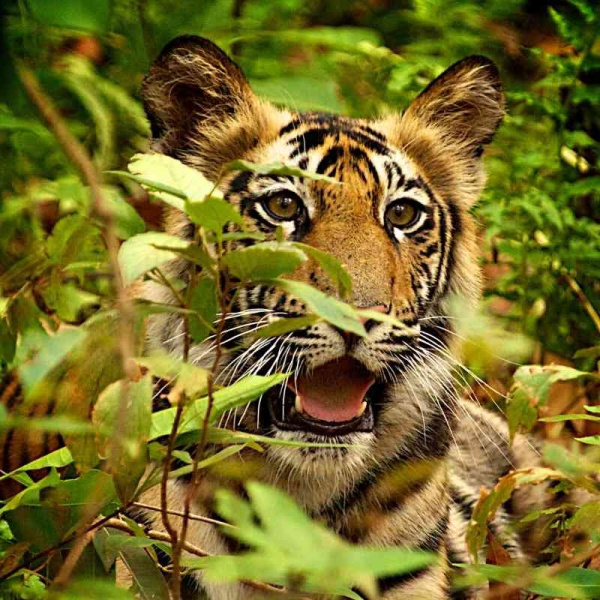Tiger: (9, 29, 582, 570)
